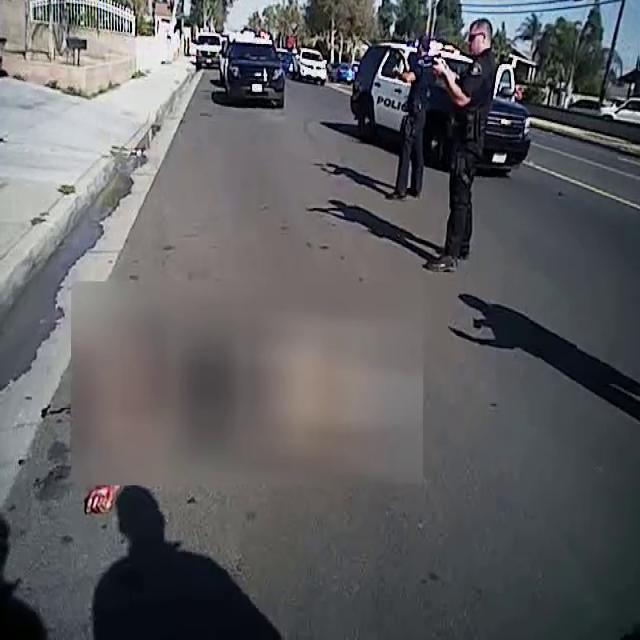gun: (411, 48, 448, 76), (387, 48, 404, 68)
